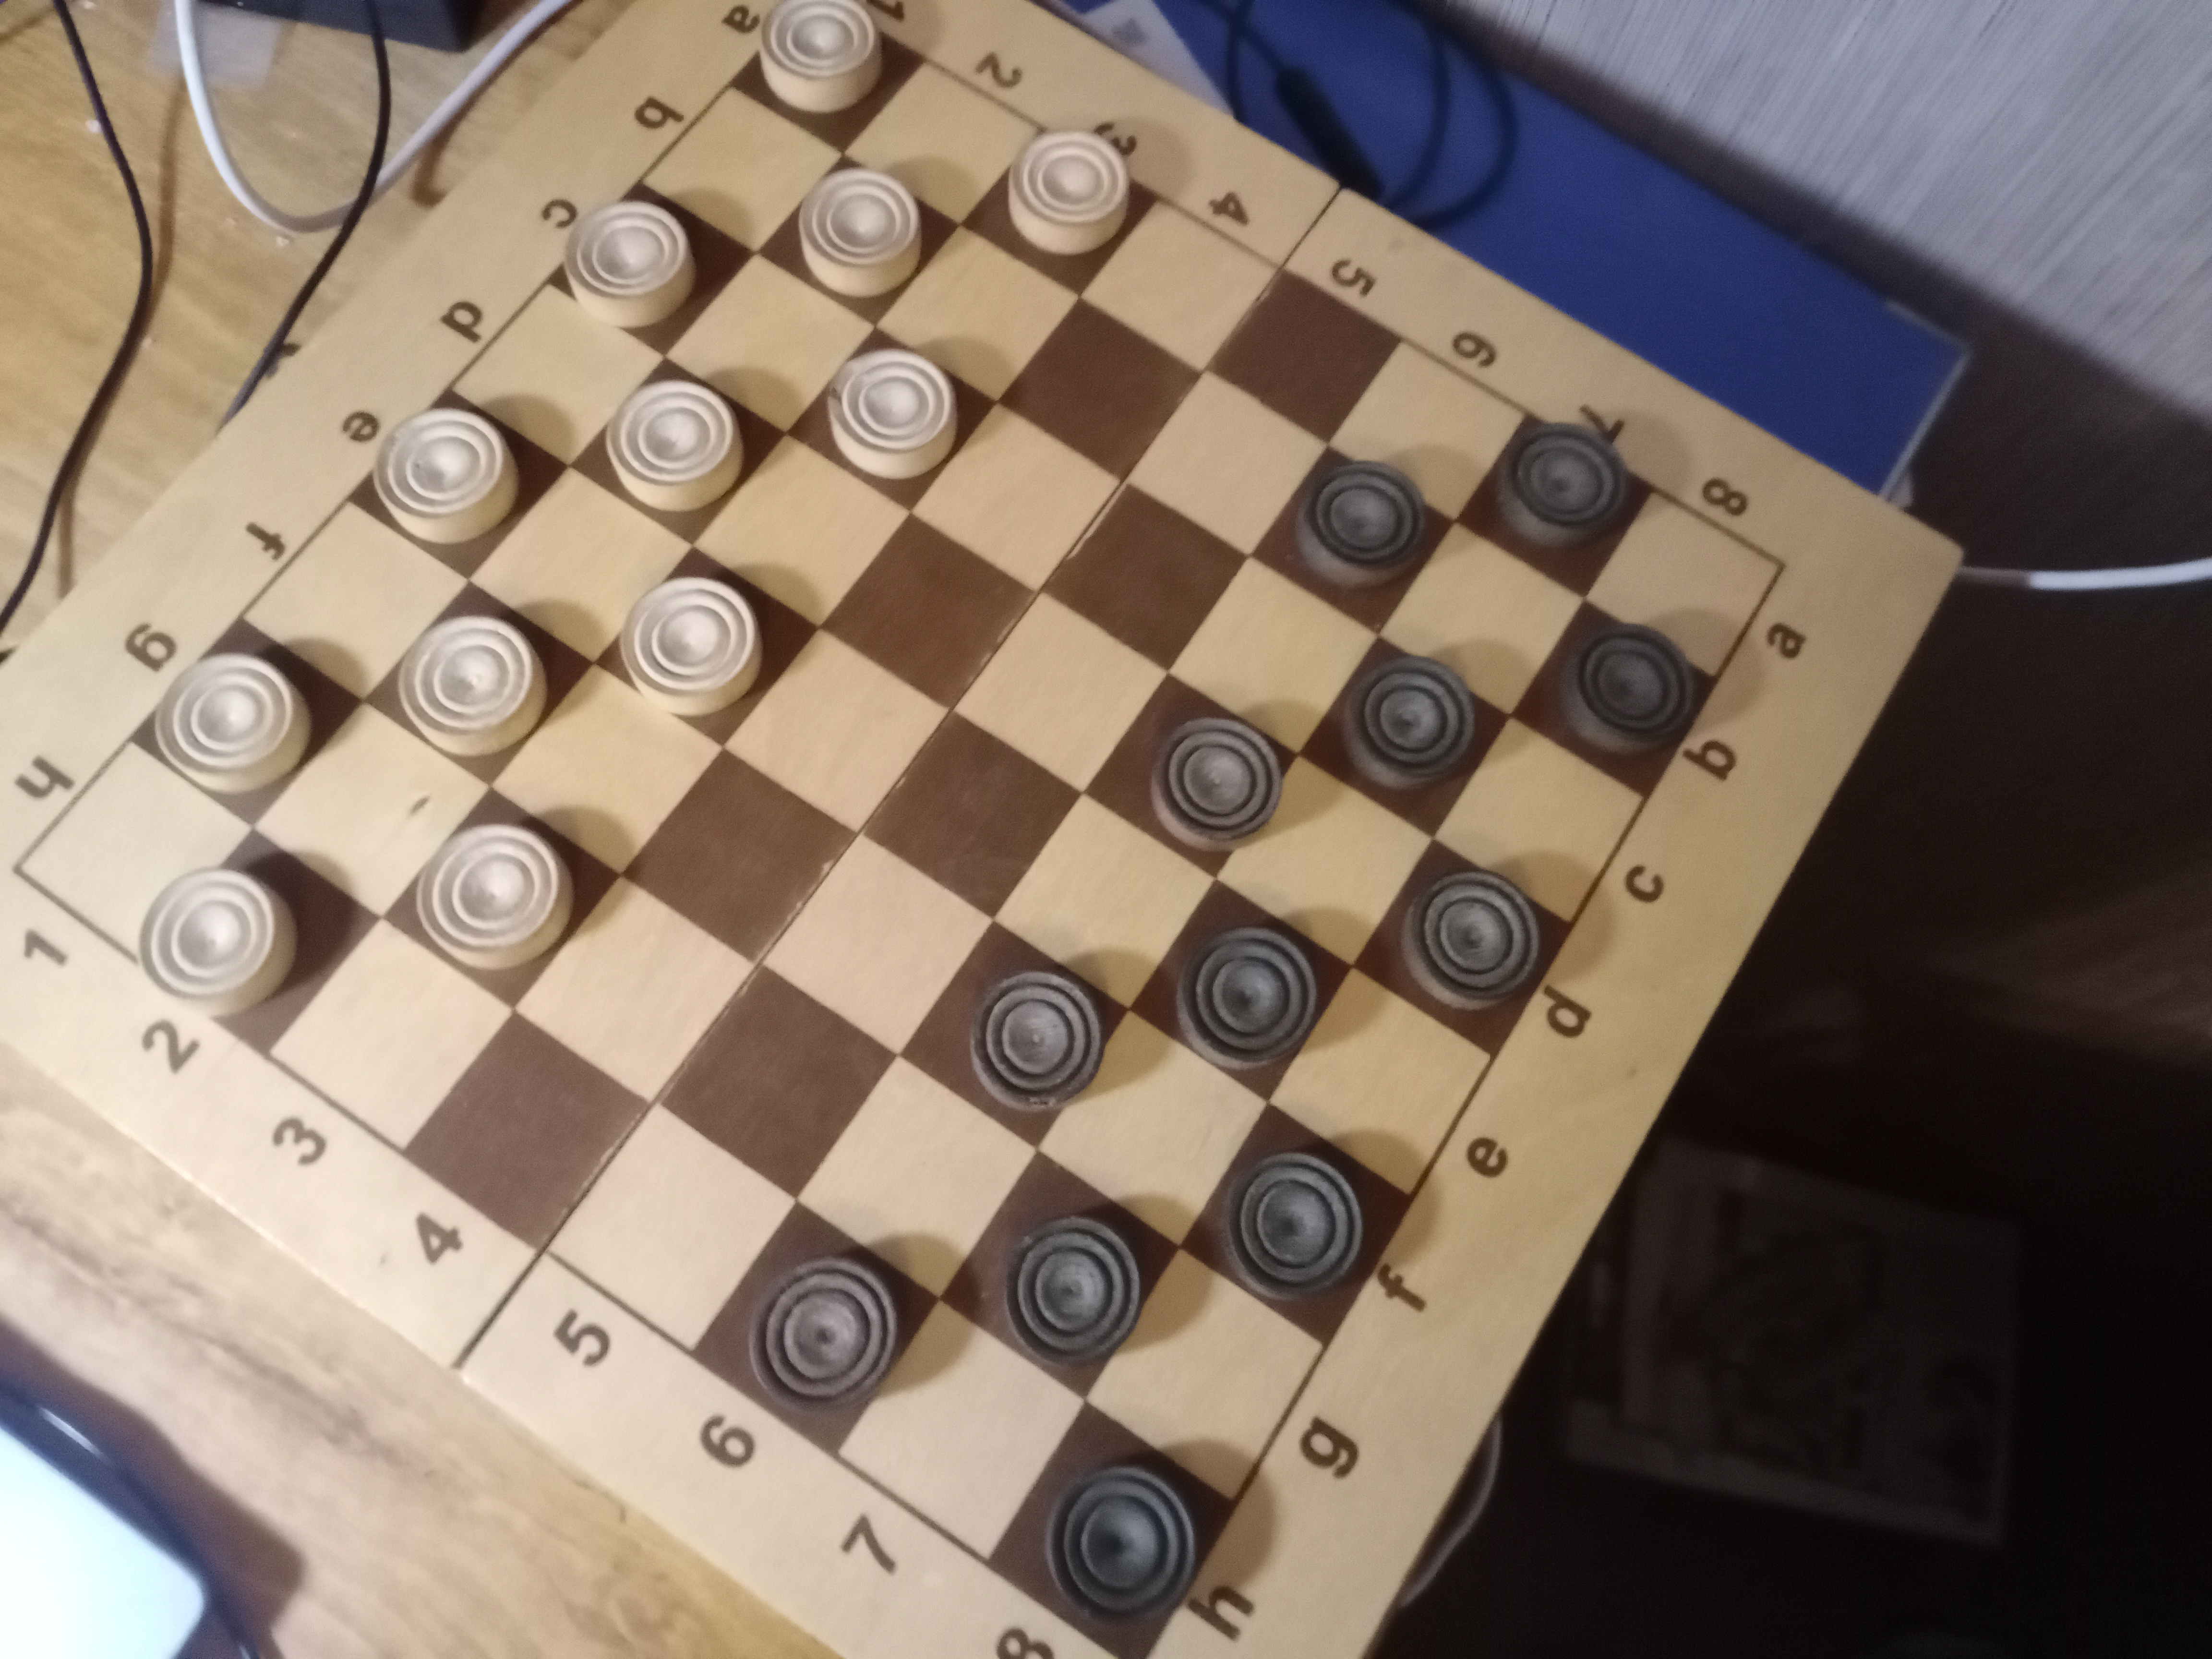Black_Draught: (690, 1201, 941, 1459), (988, 1399, 1235, 1659), (941, 1152, 1179, 1401), (1177, 1103, 1413, 1347), (897, 922, 1130, 1152), (1130, 878, 1353, 1107), (1353, 838, 1571, 1060), (1083, 676, 1301, 878), (1301, 636, 1510, 838), (1510, 599, 1716, 798), (1251, 446, 1456, 636), (1456, 411, 1653, 599)
